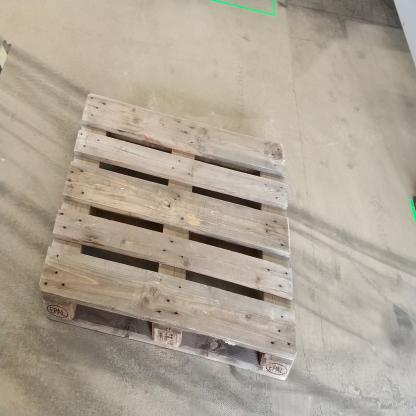BoxFace: (34, 85, 305, 393)
